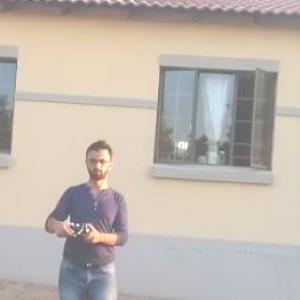follow: (33, 132, 135, 299)
